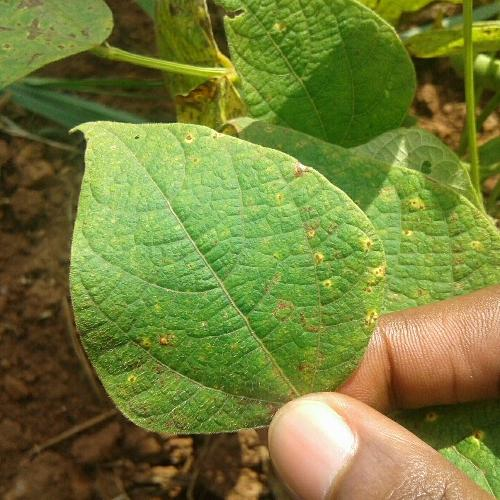hawar: (268, 234, 382, 391), (282, 167, 314, 180)
mozaik: (91, 138, 250, 408)
